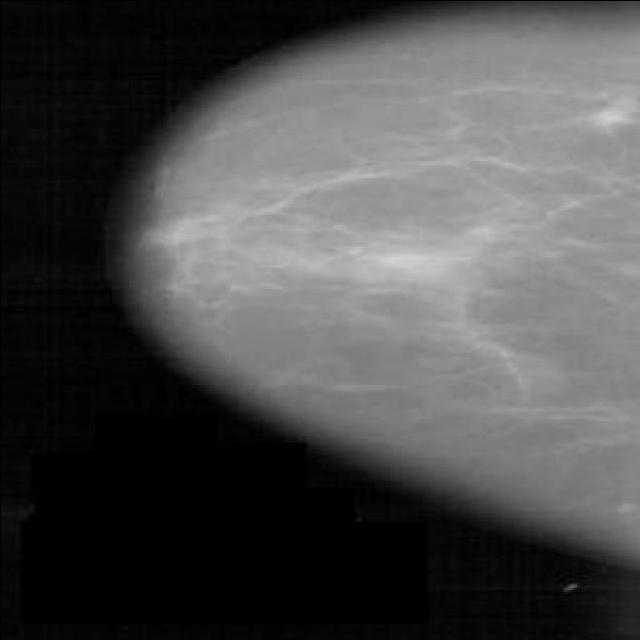tumor: (140, 185, 511, 318), (576, 84, 634, 138)
